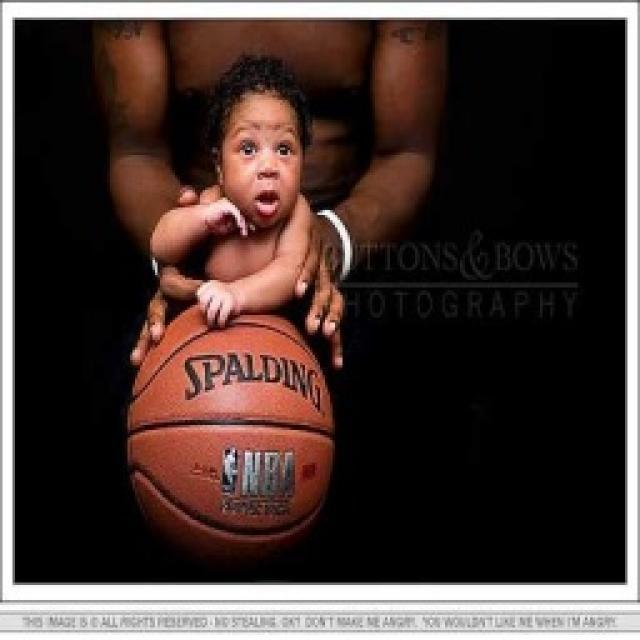rim: (123, 302, 340, 568)
